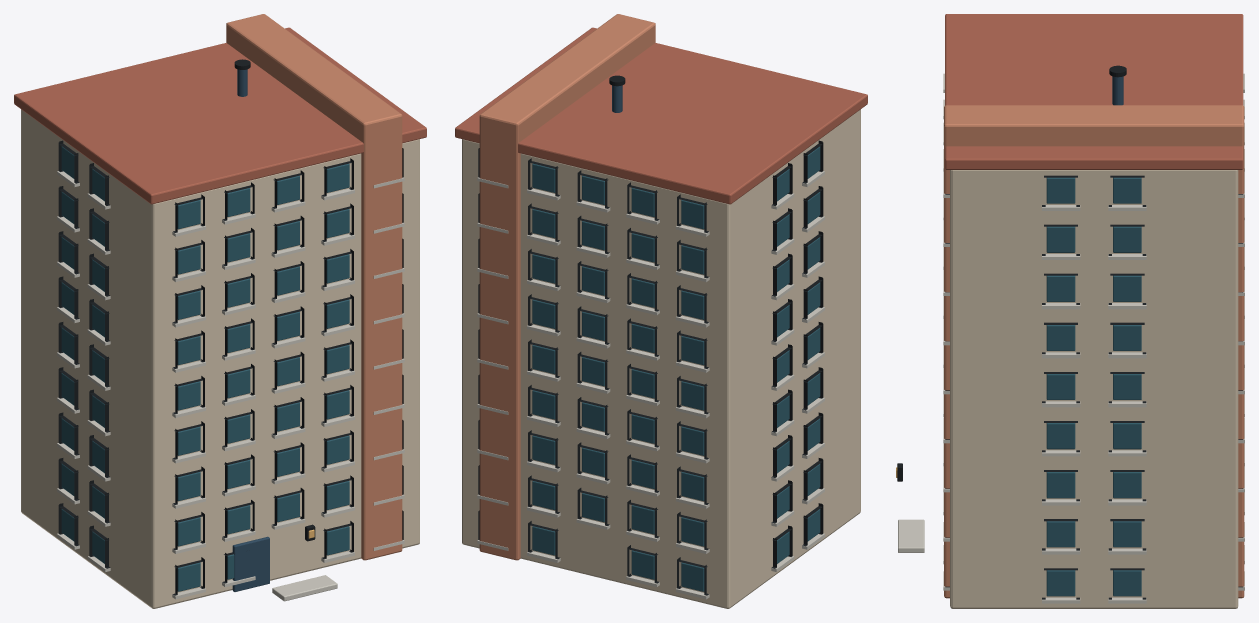
The model's file is RES_HIGH_2x2_001.glb.
The picture shows the model from 3 angles, left to right: view 1: azimuth 30°, elevation 25°; view 2: azimuth 150°, elevation 25°; view 3: azimuth 270°, elevation 25°; orthographic projection. The views are drawn at different scales.
Visible parts, largest first — view 1: RES_HIGH_2x2_001_Visual; view 2: RES_HIGH_2x2_001_Visual; view 3: RES_HIGH_2x2_001_Visual.
Part boxes in pixels (box(x1,y1,x2,y2)): RES_HIGH_2x2_001_Visual: box(14, 14, 426, 608); RES_HIGH_2x2_001_Visual: box(455, 14, 867, 608); RES_HIGH_2x2_001_Visual: box(896, 14, 1244, 608).
Size of what is drawn, in the model's own units: 3.41 by 5.26 by 3.42.
